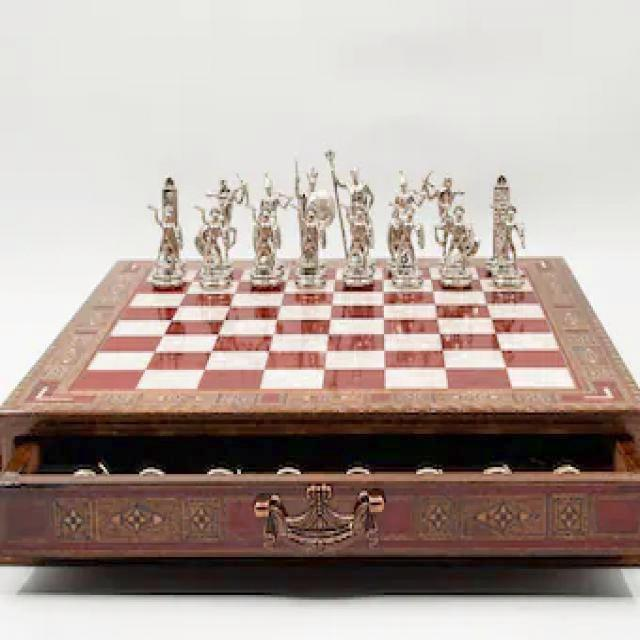chess-table-corners: (544, 366, 606, 401), (60, 365, 100, 402), (509, 262, 556, 290), (135, 260, 168, 294)
